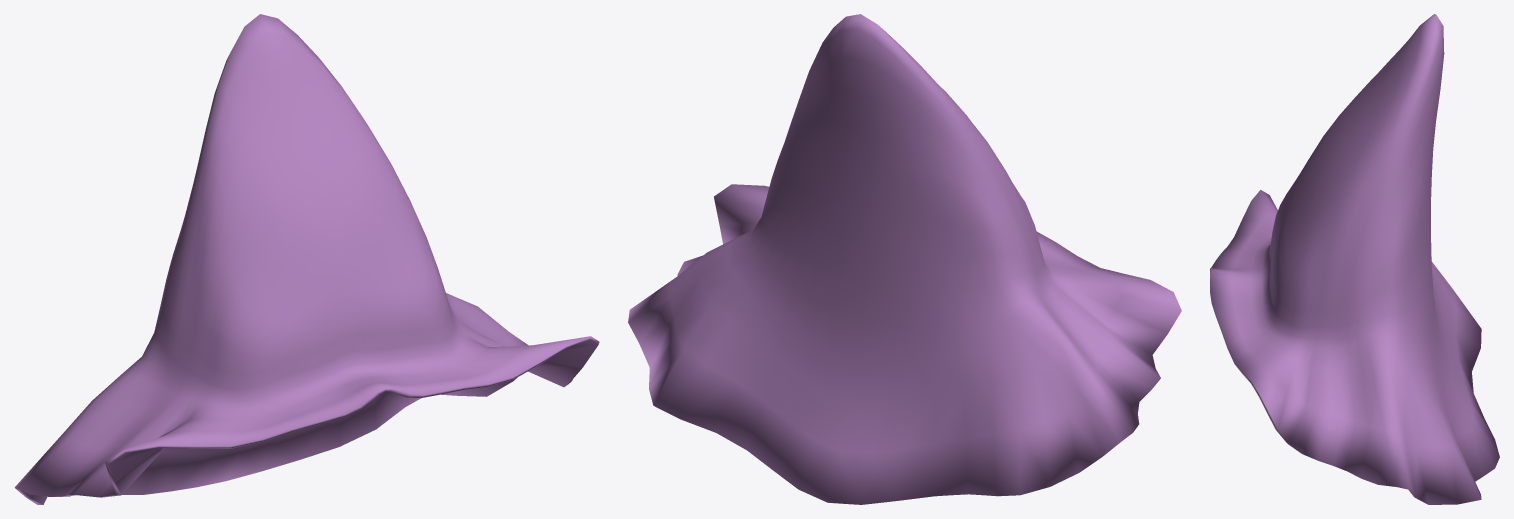
File: DungeonNPCHat.fbx
3 renders of one model, left to right at view 1: azimuth 30°, elevation 25°; view 2: azimuth 150°, elevation 25°; view 3: azimuth 270°, elevation 25°, orthographic. The views are drawn at different scales.
Visible parts, largest first — view 1: Hat; view 2: Hat; view 3: Hat.
Boxes of the visible parts, x1,y1,x2,y2 form: Hat: [14, 14, 599, 504]; Hat: [628, 14, 1181, 504]; Hat: [1210, 14, 1499, 504].
Size of the model in its own units: 0.0827 by 0.1582 by 0.1398.
